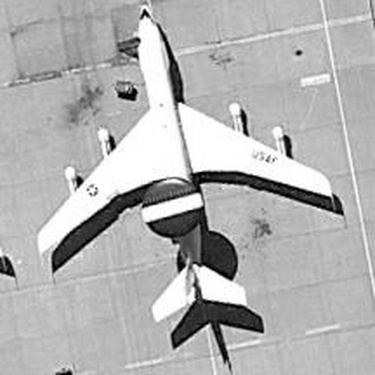airplane: (19, 4, 343, 336), (4, 239, 17, 284)
